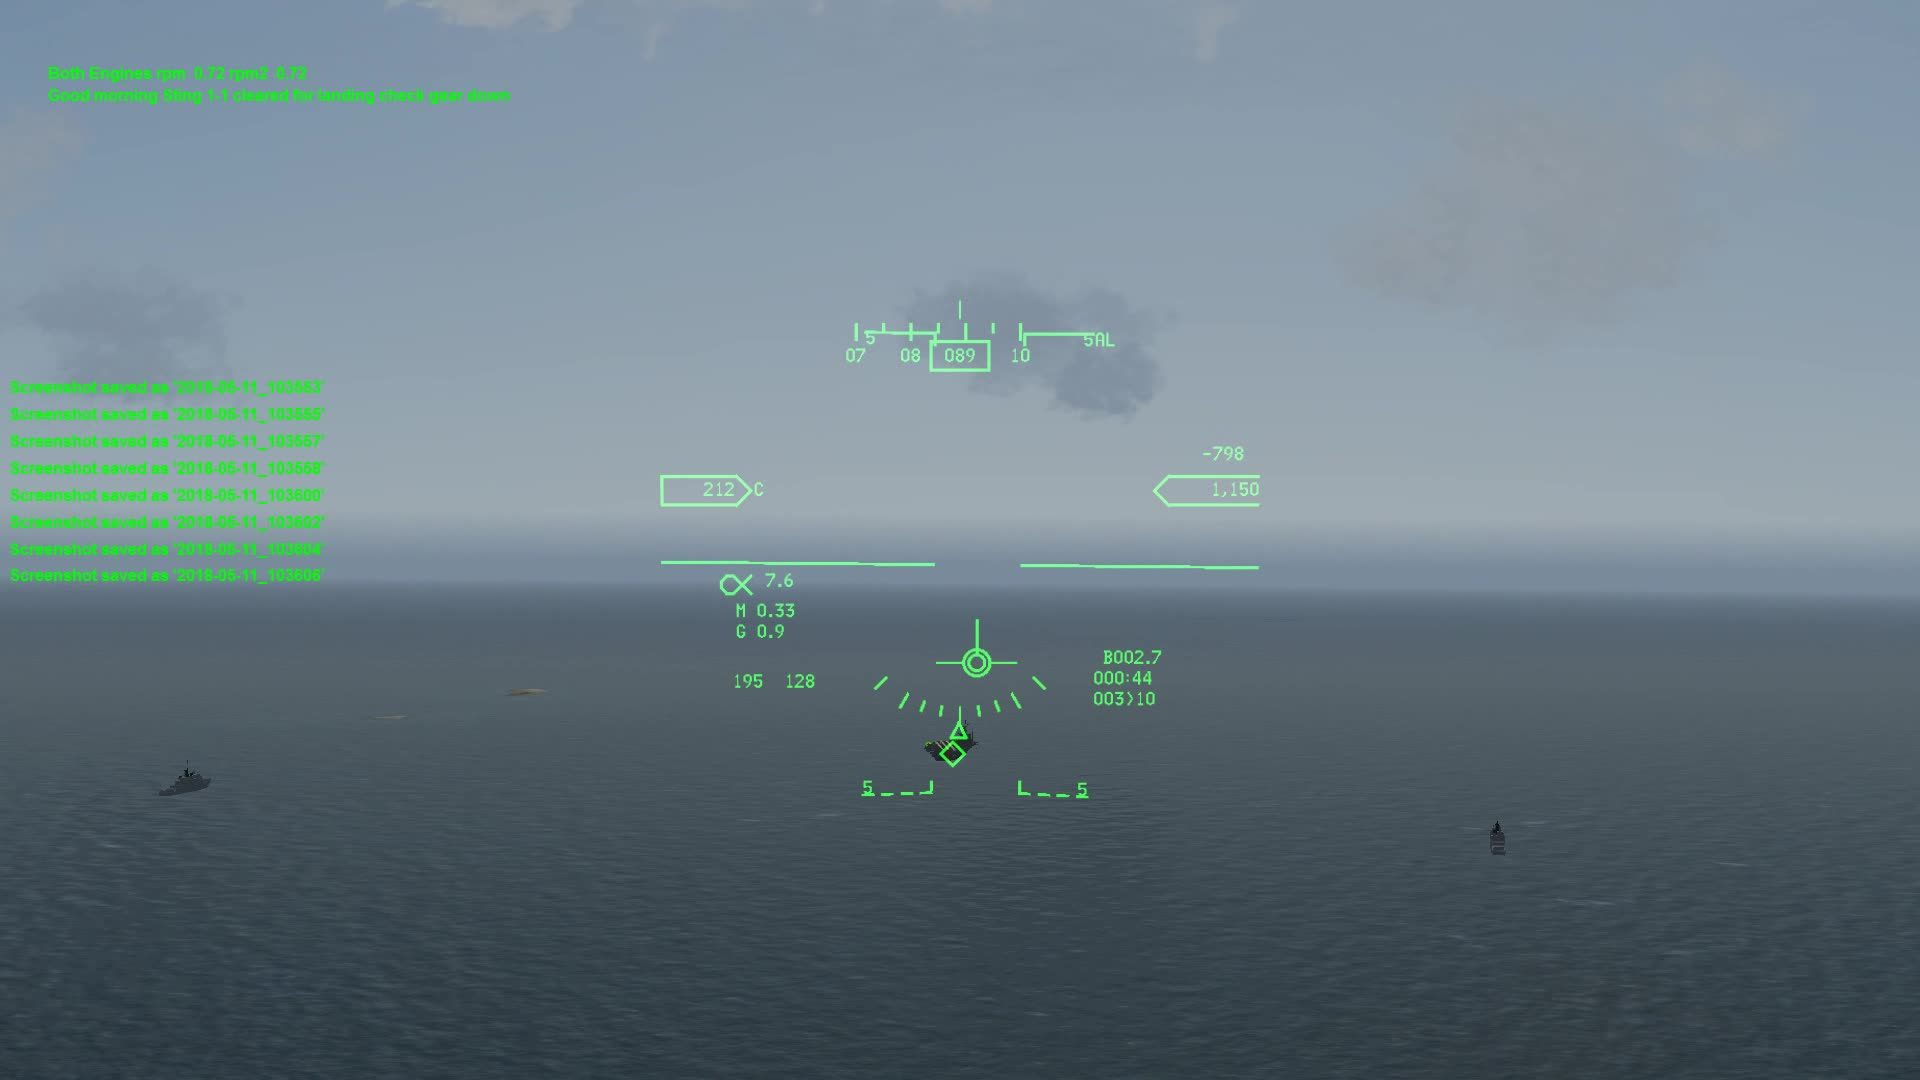speed vector: (938, 618, 1022, 684)
